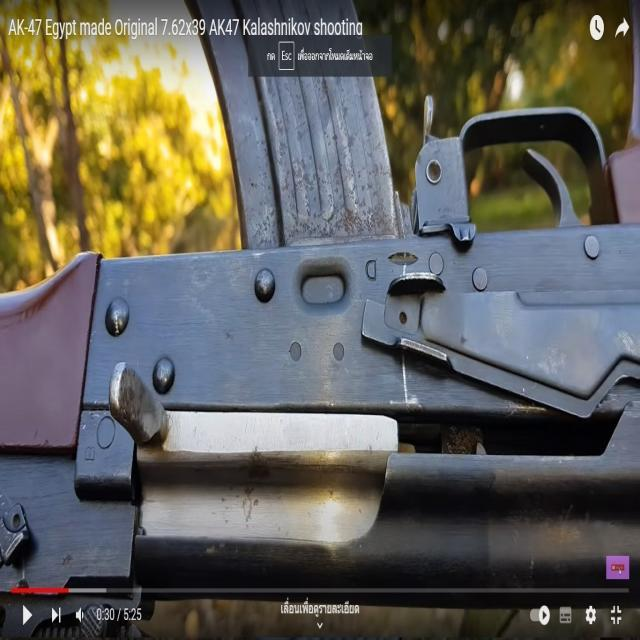ak: (0, 59, 637, 587)
